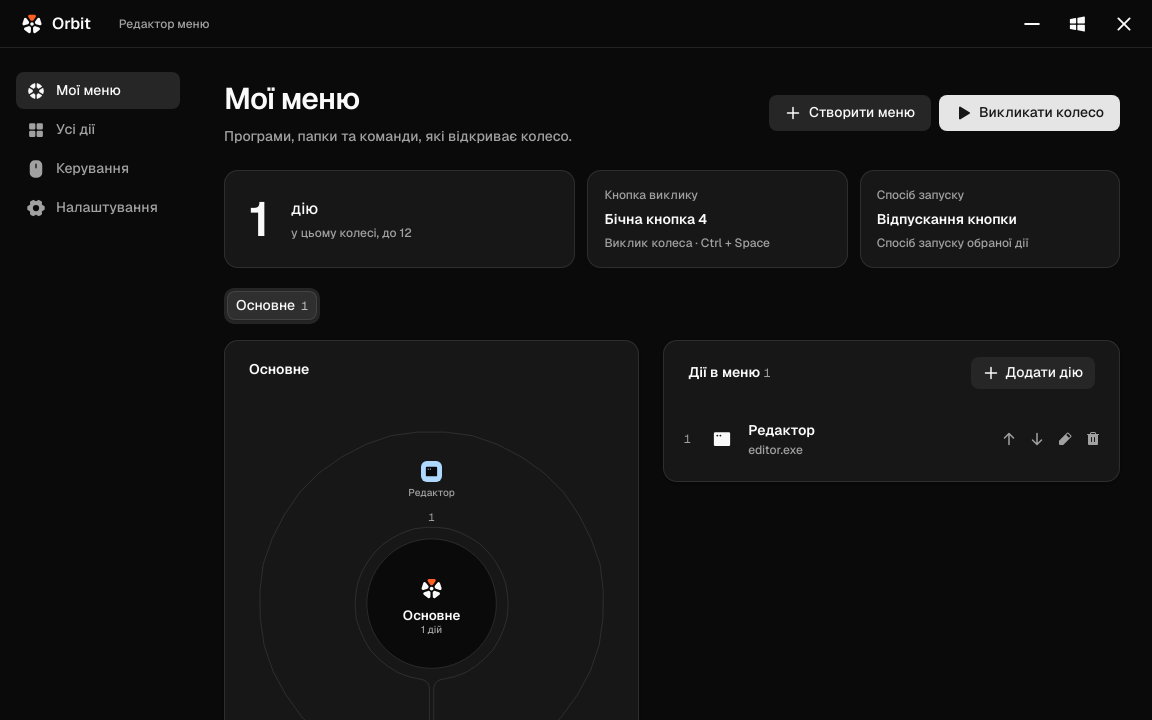
React editor shell and native events › falls back to manual entry when the folder list cannot be read
Later steps or results of the test are not shown.
Click the button "Додати дію": (1033, 372) 971,356 -> 1095,388
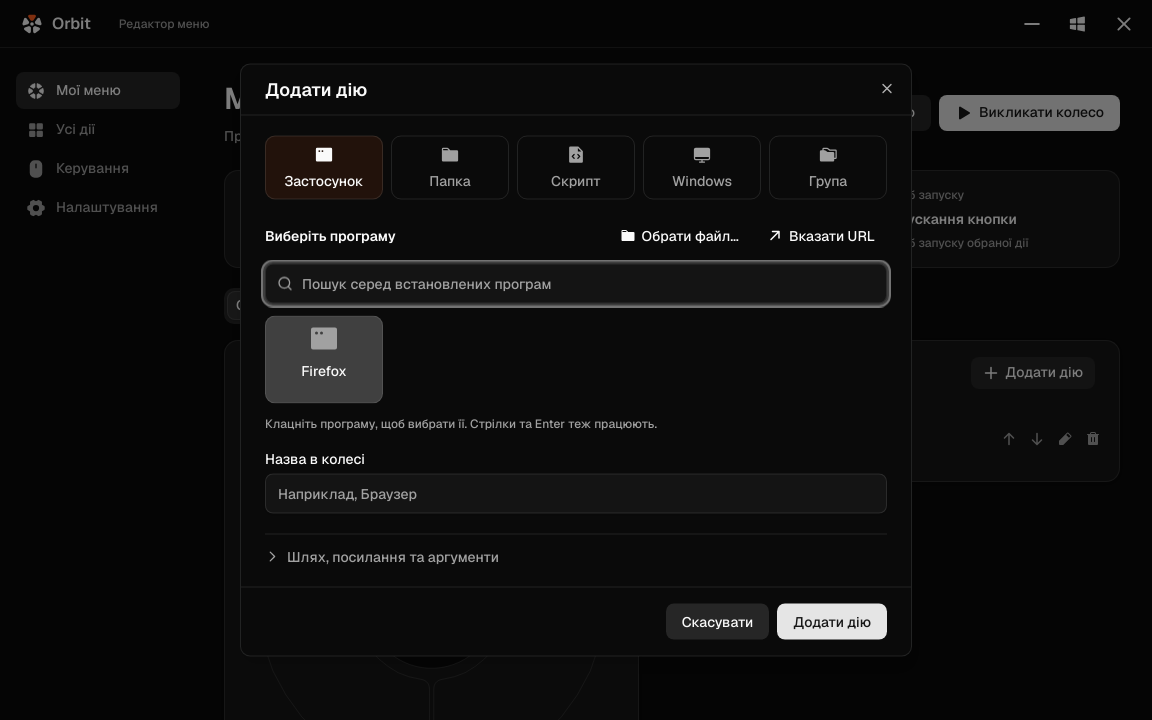
Result: the radio button labelled "Папка" is shown
Click the radio button labelled "Папка": (450, 168) 391,136 -> 509,200
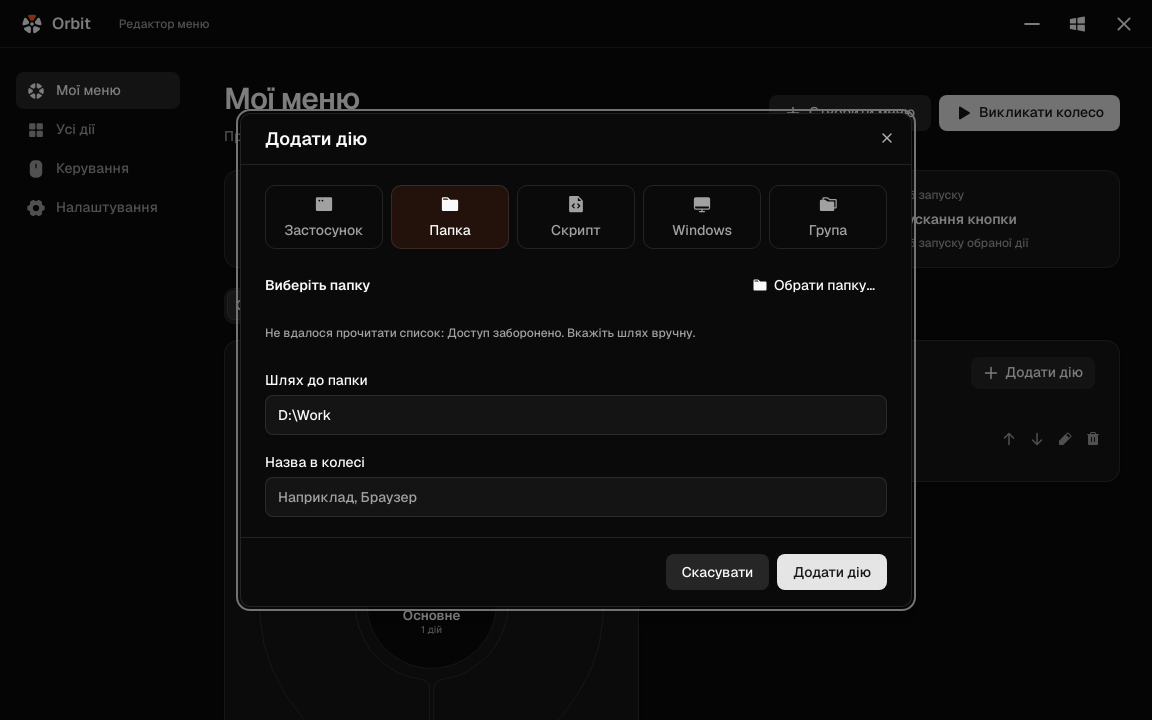
Result: the message "Не вдалося прочитати список: Доступ заборонено. Вкажіть шлях вручну." is shown at 265,325 -> 695,341
Result: the field with id "action-target" is shown at 265,395 -> 887,435
